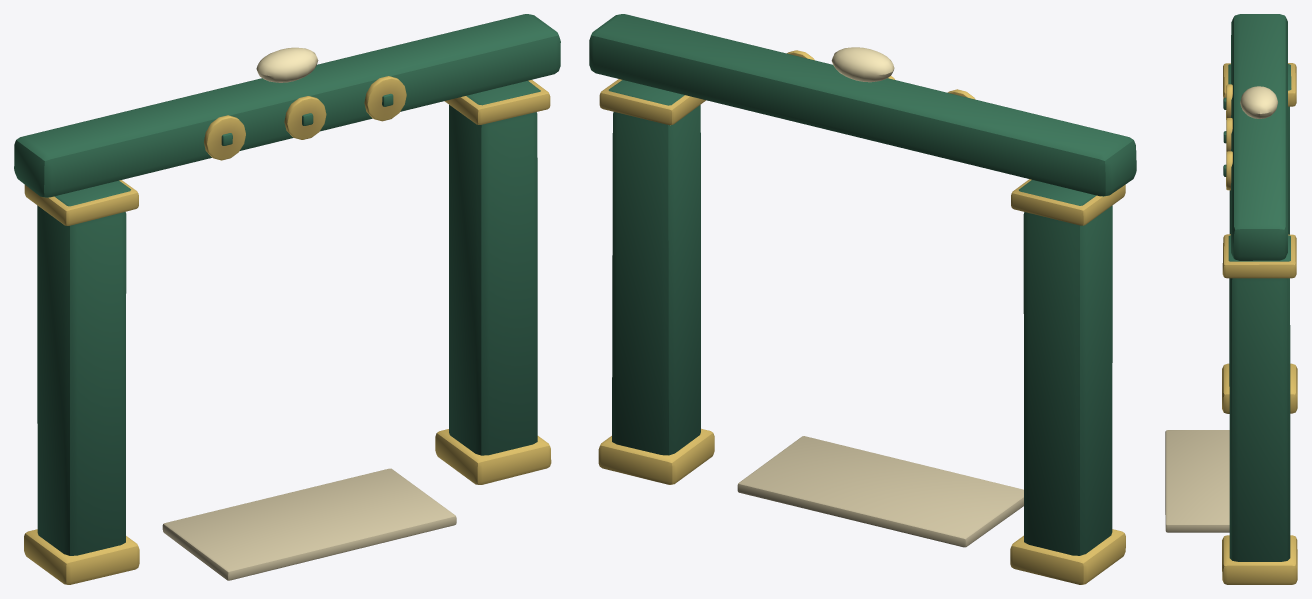
The picture shows the model from 3 angles, left to right: view 1: azimuth 30°, elevation 25°; view 2: azimuth 150°, elevation 25°; view 3: azimuth 270°, elevation 25°; orthographic projection. The views are drawn at different scales.
Visible parts, largest first — view 1: gate_301bd96a; view 2: gate_301bd96a; view 3: gate_301bd96a.
Part boxes in pixels (<box>): gate_301bd96a: <box>14,14,560,584</box>; gate_301bd96a: <box>589,14,1136,584</box>; gate_301bd96a: <box>1165,14,1297,584</box>.
Bounding box in the file's own units: 5.46 × 4.62 × 1.4.
